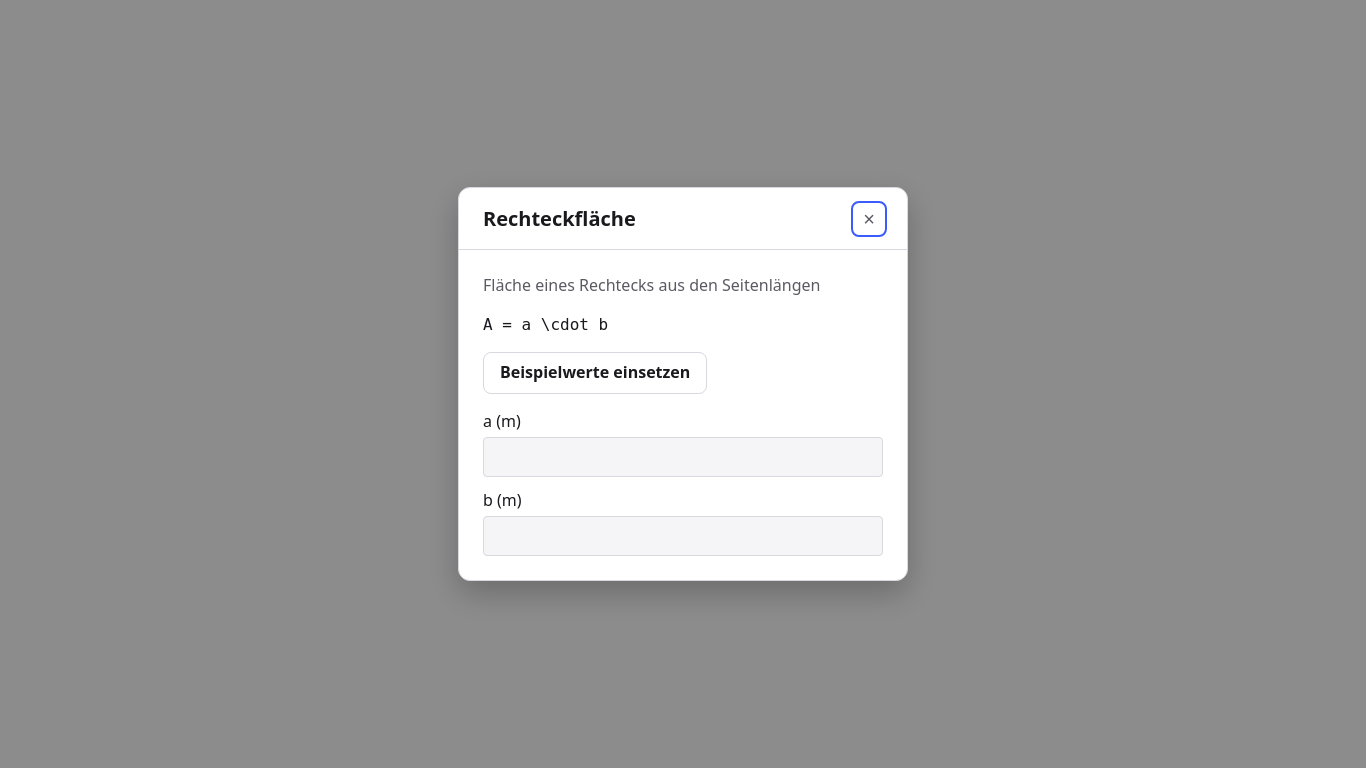
Test case: FormulaDetail › zeigt nach Eingabe aller Werte das Ergebnis an
The width and height of the screenshot is (1366, 768).
Type "4" into the field labelled "a (m)" at (683, 457), box [483,437,883,477]
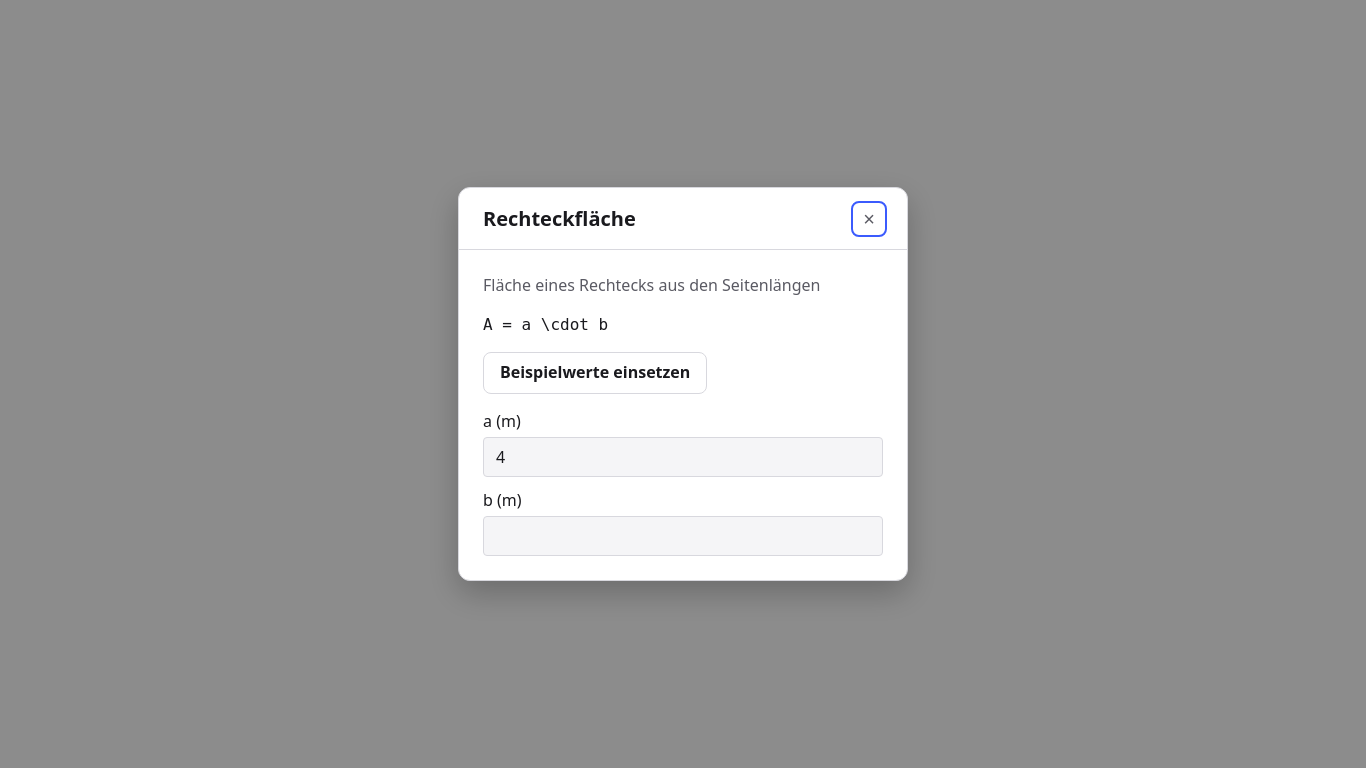
Check: the text "Ergebnis:" is not shown
Type "5" into the field labelled "b (m)" at (683, 536), box [483,516,883,556]
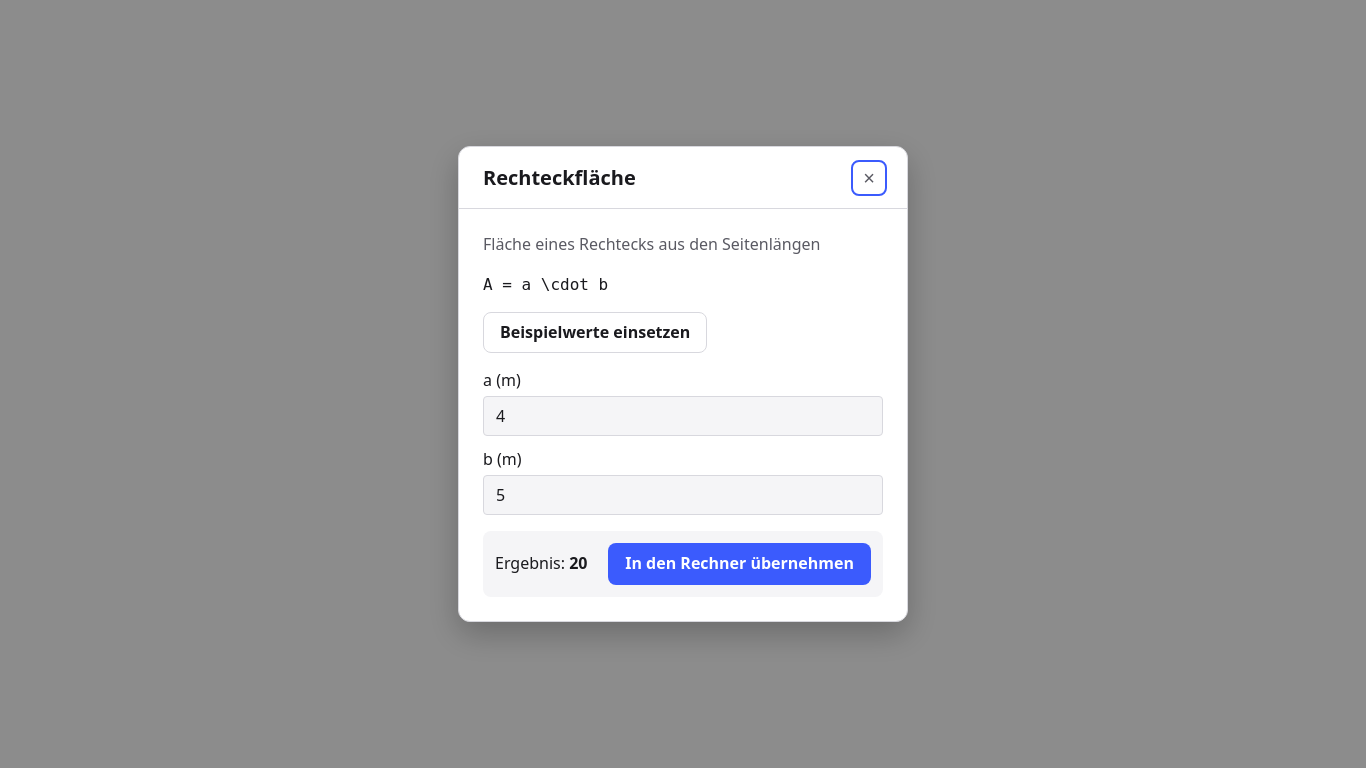
Check: the text "20" is shown, box [569,552,588,574]
